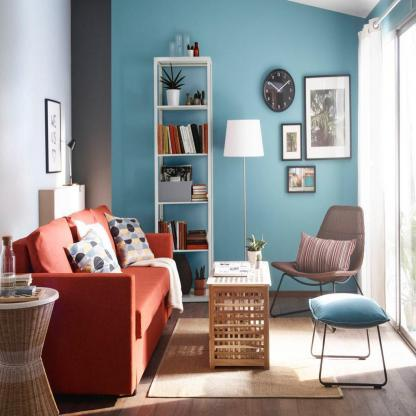Chair: (267, 203, 377, 320)
Sofa: (2, 202, 176, 397)
